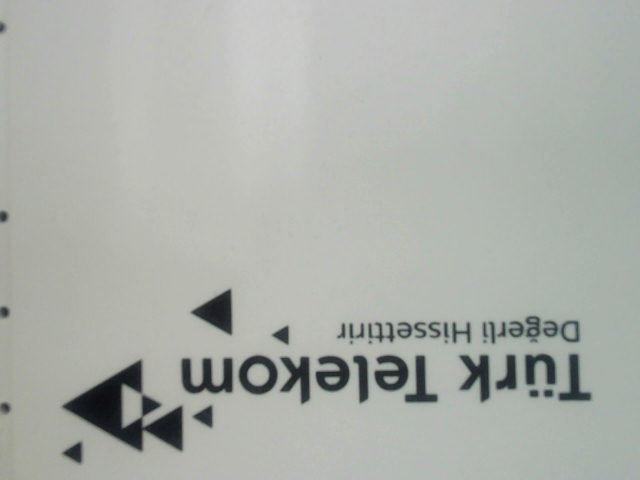AQ_TURKTelekom: (29, 281, 614, 473)
